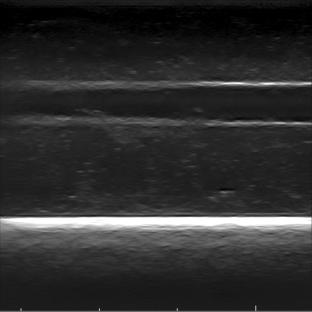vessel: (61, 79, 308, 129)
